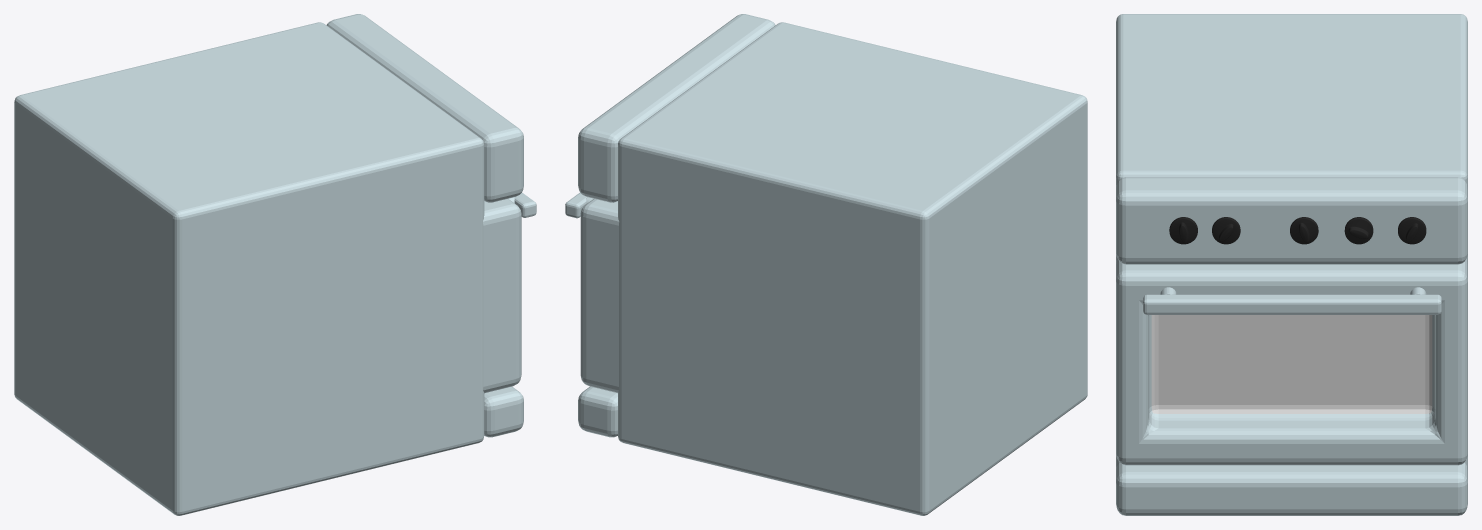
Rendered from fırın_ızgara_ocak.fbx.
3 views of the same model, side by side, from view 1: azimuth 30°, elevation 25°; view 2: azimuth 150°, elevation 25°; view 3: azimuth 270°, elevation 25° (orthographic). The views are drawn at different scales.
Parts seen in each view (by area): view 1: fırın.001, fırın_kapağı.001; view 2: fırın.001, fırın_kapağı.001; view 3: fırın.001, fırın_kapağı.001, düğme_1.001, düğme_2.001, düğme_3.001, düğme_4.001, düğme_5.001.
Part boxes in pixels (x1,y1,x2,y2): fırın.001: (14, 14, 523, 515); fırın_kapağı.001: (483, 192, 536, 393); fırın.001: (578, 14, 1087, 515); fırın_kapağı.001: (565, 192, 619, 393); fırın.001: (1116, 14, 1467, 515); fırın_kapağı.001: (1116, 259, 1467, 465); düğme_1.001: (1169, 217, 1197, 244); düğme_2.001: (1212, 217, 1240, 244); düğme_3.001: (1290, 217, 1318, 244); düğme_4.001: (1344, 217, 1373, 244); düğme_5.001: (1398, 217, 1426, 244).
Size of the model in its own units: 121 by 94.23 by 92.09.
